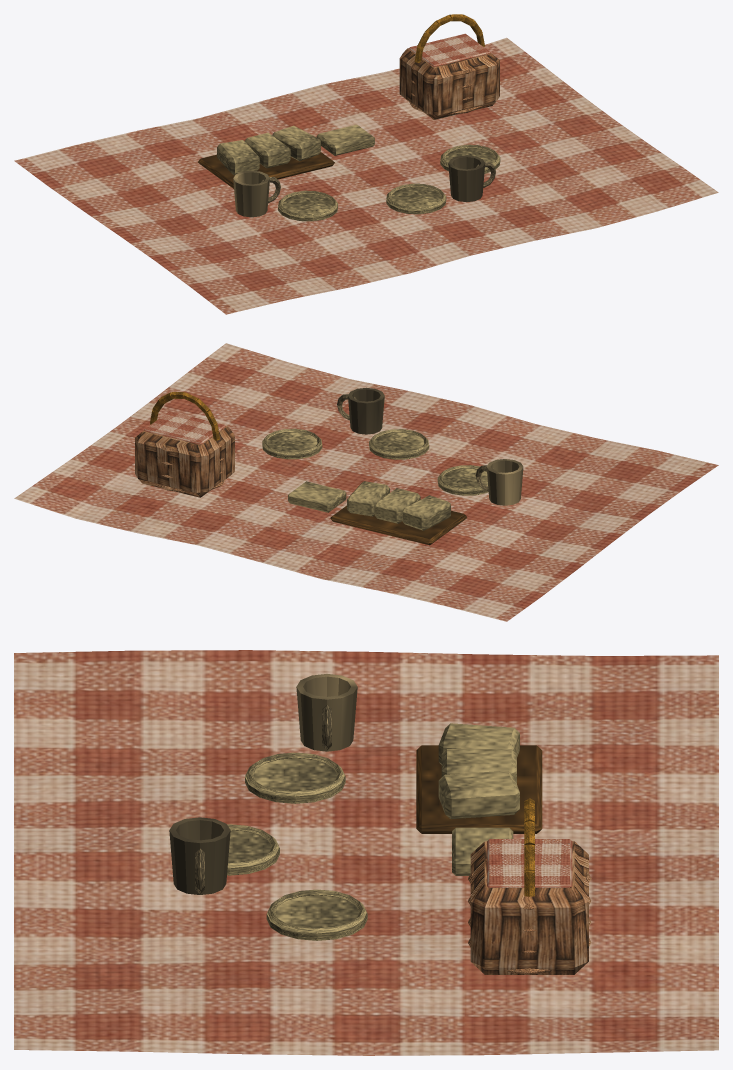
Rendered from east-picnic-blanket.glb.
The picture shows the model from 3 angles, top to bottom: view 1: azimuth 30°, elevation 25°; view 2: azimuth 150°, elevation 25°; view 3: azimuth 270°, elevation 25°; orthographic projection. The views are drawn at different scales.
Parts seen in each view (by area): view 1: east-picnic-blanket; view 2: east-picnic-blanket; view 3: east-picnic-blanket.
Boxes of the visible parts, bbox=[...] form: east-picnic-blanket: bbox=[14, 14, 718, 314]; east-picnic-blanket: bbox=[14, 343, 718, 621]; east-picnic-blanket: bbox=[14, 650, 718, 1055].
Size of the model in its own units: 8.64 by 1.64 by 6.44.
2 materials, 2 textured.
